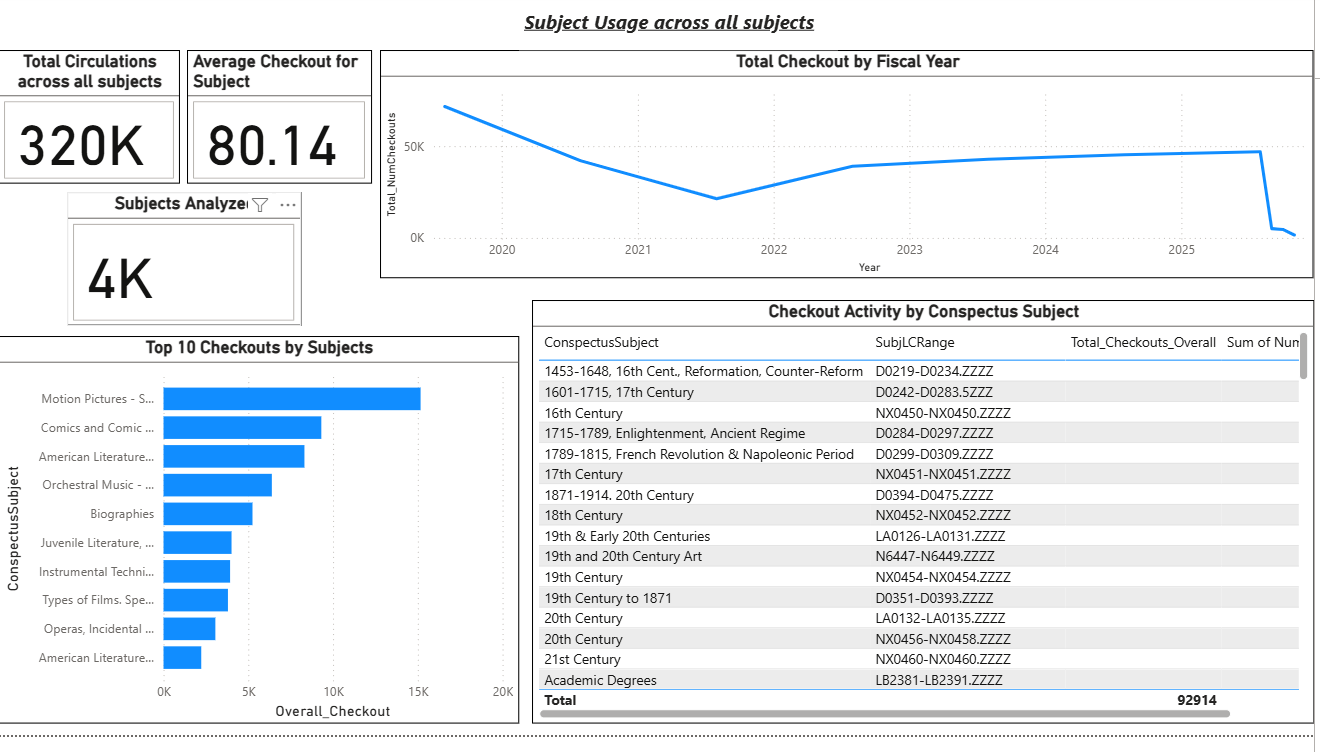

This screenshot's page, from the dashboard's own definition file:
{"tool":"powerbi","page":{"name":"SUBJECT USAGE","canvas":[1280,720],"ordinal":9},"visuals":[{"type":"lineChart","title":"Total Checkout by Fiscal Year ","fields":{"Y":["H.vCheckoutsOverTimeByFullConspectus.Total_NumCheckouts"],"Category":["H.vCheckoutsOverTimeByFullConspectus.EndDate.Variation.Date Hierarchy.Year","H.vCheckoutsOverTimeByFullConspectus.EndDate.Variation.Date Hierarchy.Month"]},"box":[371.6,53.5,908.4,221.8],"z":0},{"type":"tableEx","title":"Checkout Activity by Conspectus Subject","fields":{"Values":["H.vCheckoutsOverTimeByFullConspectus.ConspectusSubject","H.vCheckoutsOverTimeByFullConspectus.SubjLCRange","H.vCheckoutsOverTimeByFullConspectus.Total_Checkouts_Overall","Sum(H.vCheckoutsOverTimeByFullConspectus.NumItemsUsed)"]},"box":[519.4,296.7,760.6,412.4],"z":1000},{"type":"textbox","box":[506.7,7.8,310.3,45.7],"z":2000},{"type":"cardVisual","title":"Total Circulations across all subjects","fields":{"Data":["H.vCheckoutsOverTimeByFullConspectus.TotalSubjectUsage_AllTime"]},"box":[0,53.5,177,130.3],"z":3000},{"type":"cardVisual","title":"Subjects Analyzed","fields":{"Data":["H.vCheckoutsOverTimeByFullConspectus.Subjects_Analyzed"]},"box":[67.1,191.6,227.6,130.3],"z":4000},{"type":"cardVisual","title":"Average Checkout for Subject","fields":{"Data":["H.vCheckoutsOverTimeByFullConspectus.Avg_checkout_per_subject"]},"box":[183.8,53.5,179.9,130.3],"z":5000},{"type":"clusteredBarChart","title":"Top 10 Checkouts by Subjects","fields":{"Category":["H.vCheckoutsOverTimeByFullConspectus.ConspectusSubject"],"Y":["H.vCheckoutsOverTimeByFullConspectus.Overall_Checkout"]},"box":[0,331.7,506.7,377.4],"z":6000}]}

Visuals, with their boxes in screenshot pixels (x1, y1, x2, y2), scaled from the page's 1280x720 canvas onto the 1320x752 screenshot:
"Total Checkout by Fiscal Year " lineChart: <bbox>383, 56, 1319, 288</bbox>
"Checkout Activity by Conspectus Subject" tableEx: <bbox>536, 310, 1319, 741</bbox>
textbox: <bbox>523, 8, 843, 56</bbox>
"Total Circulations across all subjects" cardVisual: <bbox>0, 56, 183, 192</bbox>
"Subjects Analyzed" cardVisual: <bbox>69, 200, 304, 336</bbox>
"Average Checkout for Subject" cardVisual: <bbox>190, 56, 375, 192</bbox>
"Top 10 Checkouts by Subjects" clusteredBarChart: <bbox>0, 346, 523, 741</bbox>
